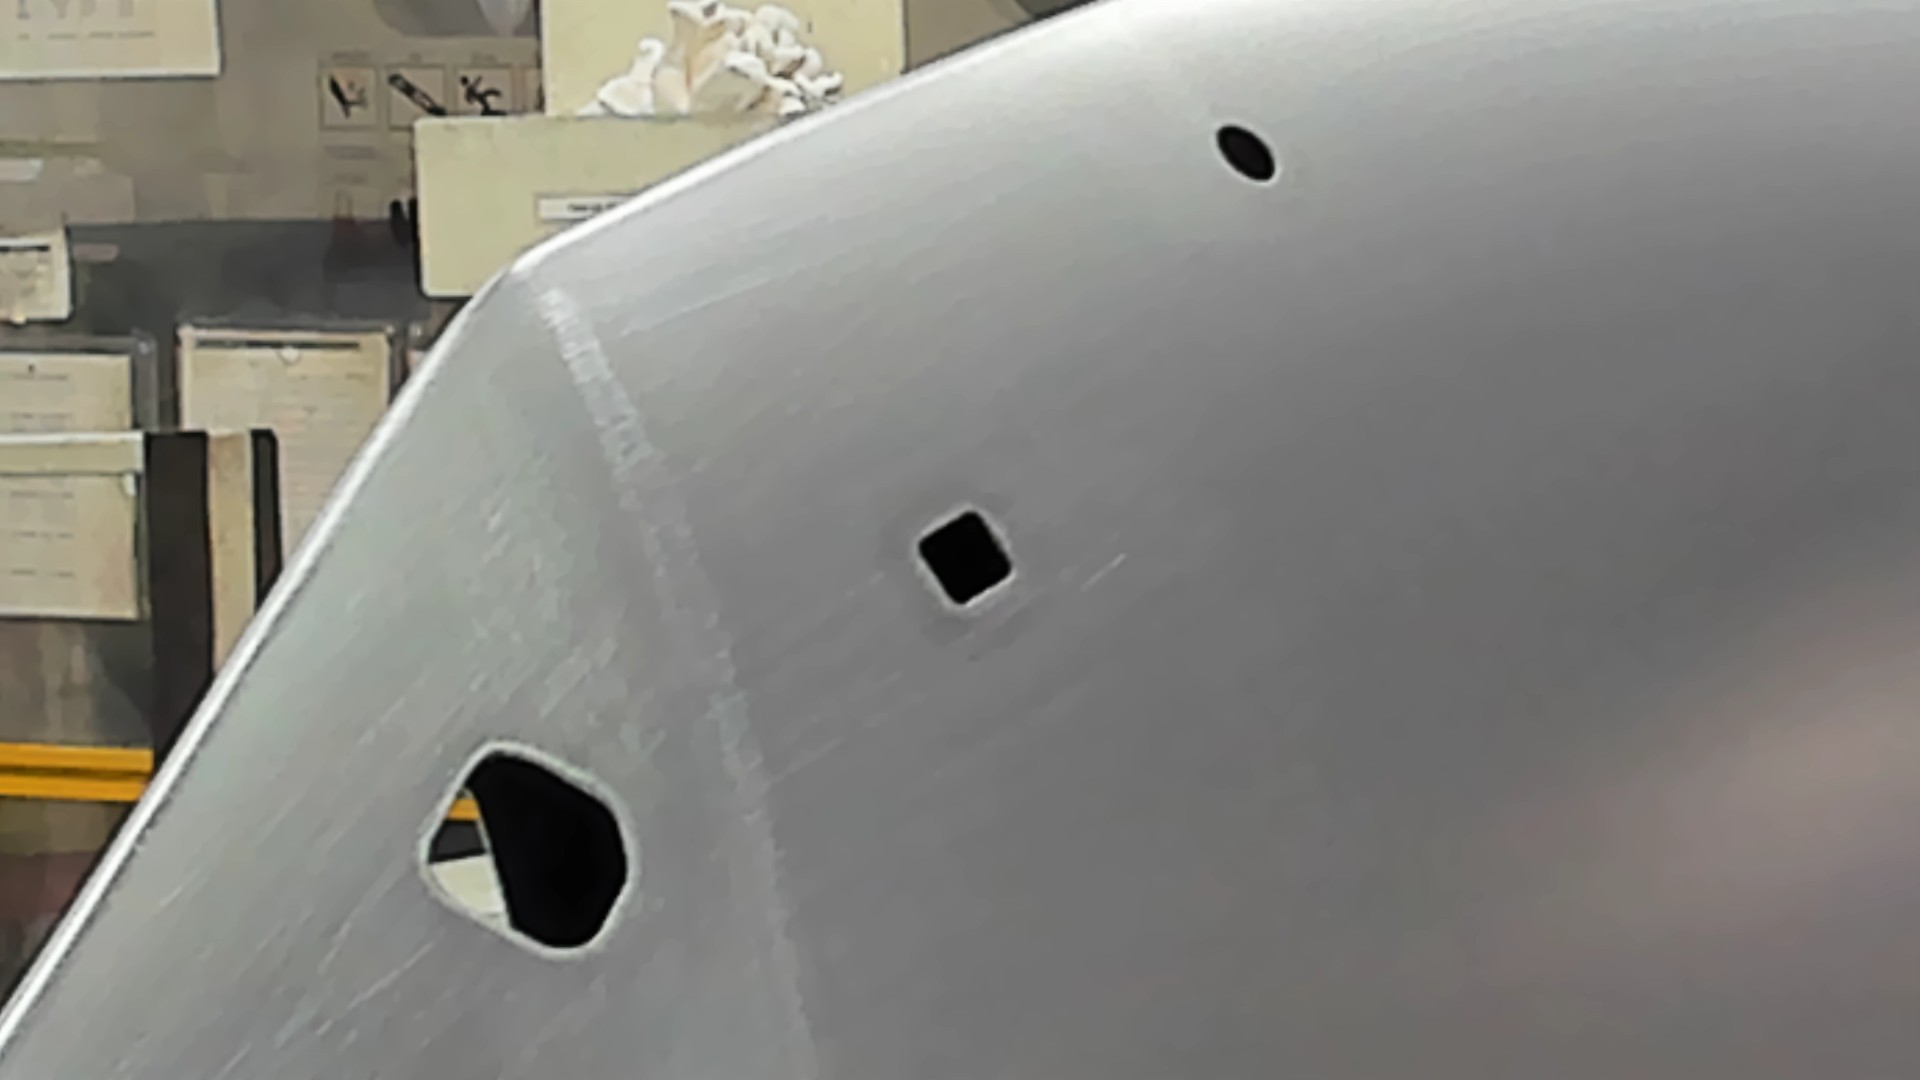capo: (1021, 189, 1920, 1080)
chico: (1211, 119, 1276, 186)
grande: (410, 738, 642, 967)
mediano: (914, 501, 1021, 613)
